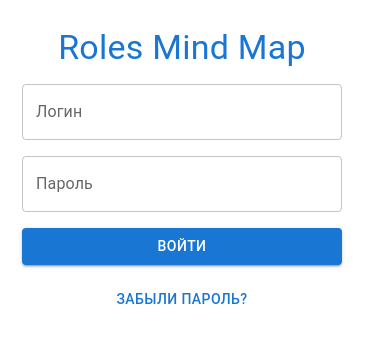
Test: shows a validation error for a too-short nickname
Type "ab" into the field labelled "Логин" at (182, 112), box [22, 84, 342, 140]
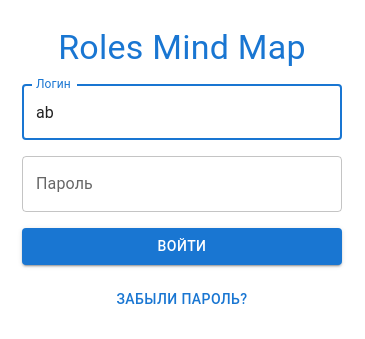
Type "pass1" into the password field labelled "Пароль" at (182, 184), box [22, 156, 342, 212]
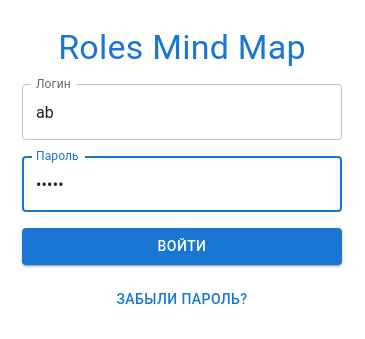
Click the button "Войти" at (182, 247), box [22, 228, 342, 265]
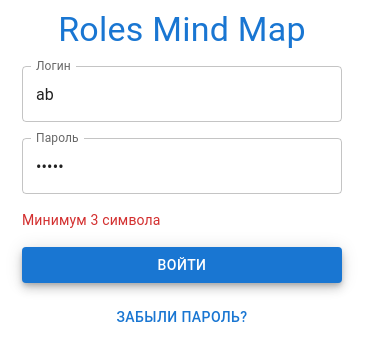
expect the text "Минимум 3 символа" is shown: met, box [22, 212, 161, 228]
